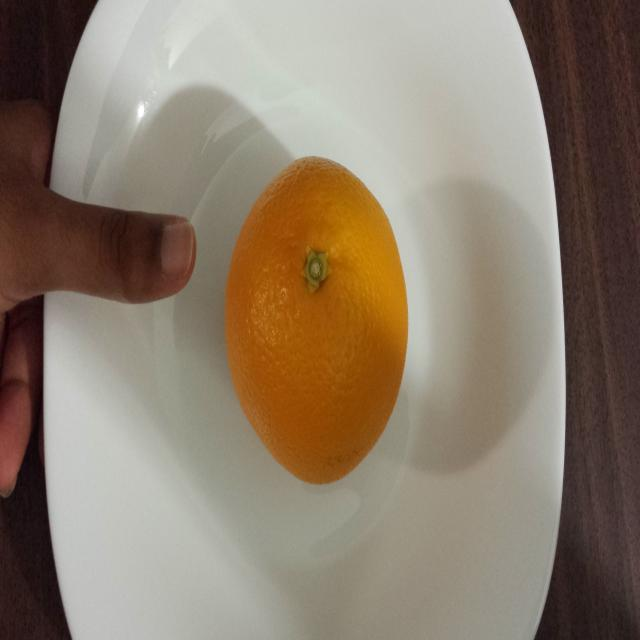Orange: (216, 114, 452, 498)
